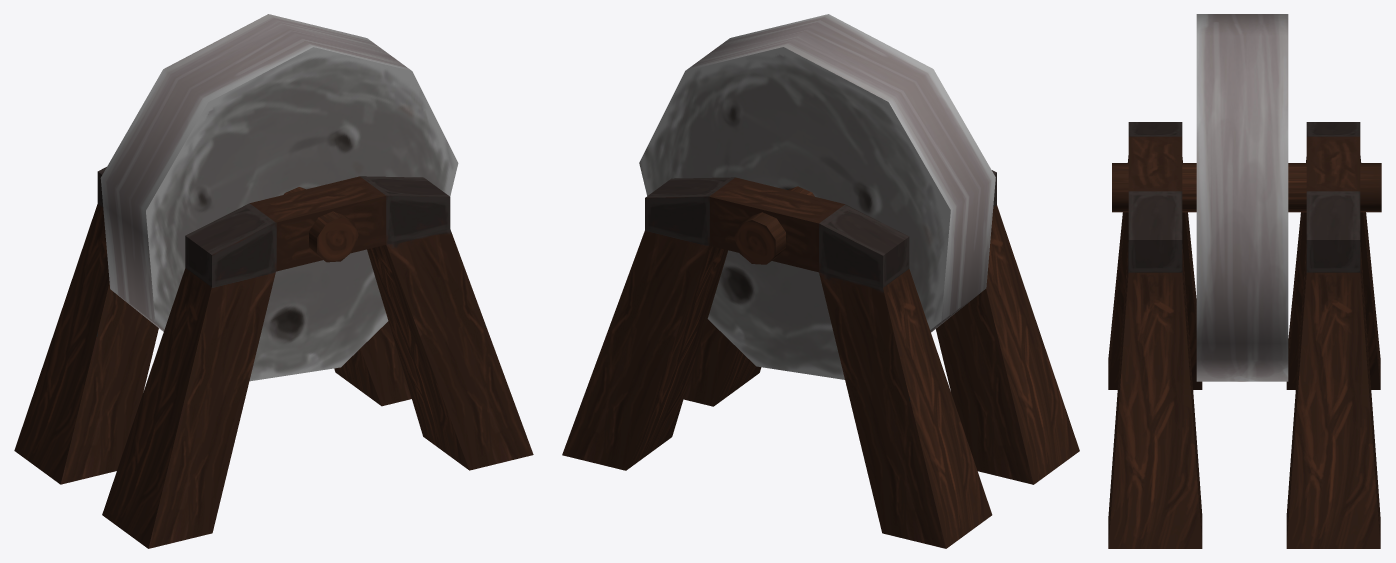
Rendered from whetstone_prop.FBX.
3 renders of one model, left to right at view 1: azimuth 30°, elevation 25°; view 2: azimuth 150°, elevation 25°; view 3: azimuth 270°, elevation 25°, orthographic.
Visible parts, largest first — view 1: whetstone; view 2: whetstone; view 3: whetstone.
Part boxes in pixels (x1,y1,x2,y2): whetstone: (14,14,533,548); whetstone: (562,14,1079,548); whetstone: (1108,14,1381,548).
Size of the model in its own units: 17.13 by 17.81 by 10.36.
